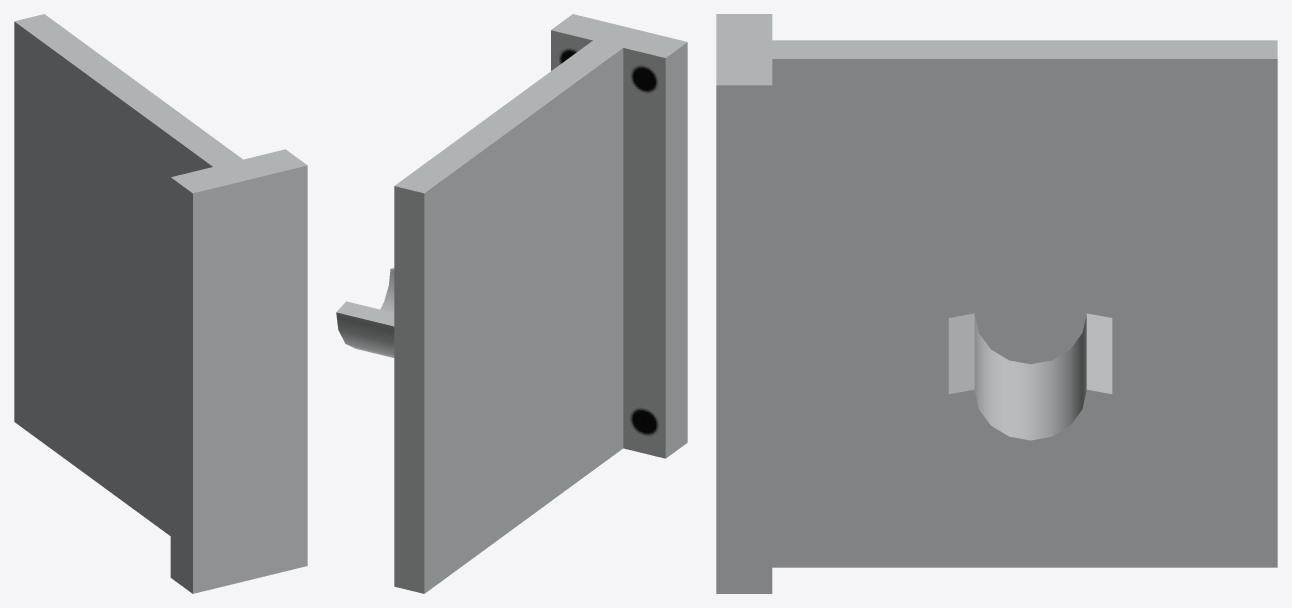
Rendered from juantongzhijia.fbx.
3 views of the same model, side by side, from view 1: azimuth 30°, elevation 25°; view 2: azimuth 150°, elevation 25°; view 3: azimuth 270°, elevation 25° (orthographic). The views are drawn at different scales.
Visible parts, largest first — view 1: juantongzhijia1; view 2: juantongzhijia1; view 3: juantongzhijia1.
Boxes of the visible parts, box(x1,y1,x2,y2) form: juantongzhijia1: box(14, 14, 307, 593); juantongzhijia1: box(336, 14, 687, 593); juantongzhijia1: box(716, 14, 1277, 593).
Size of the model in its own units: 12.91 by 25.25 by 25.25.
1 material, 1 textured.
